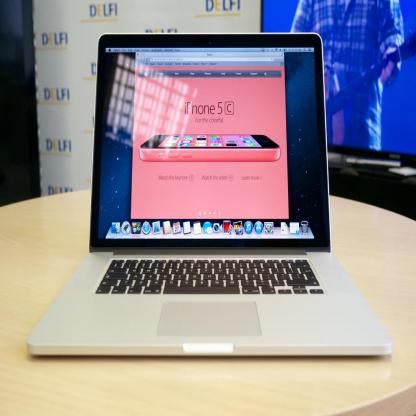board: (27, 30, 391, 358)
